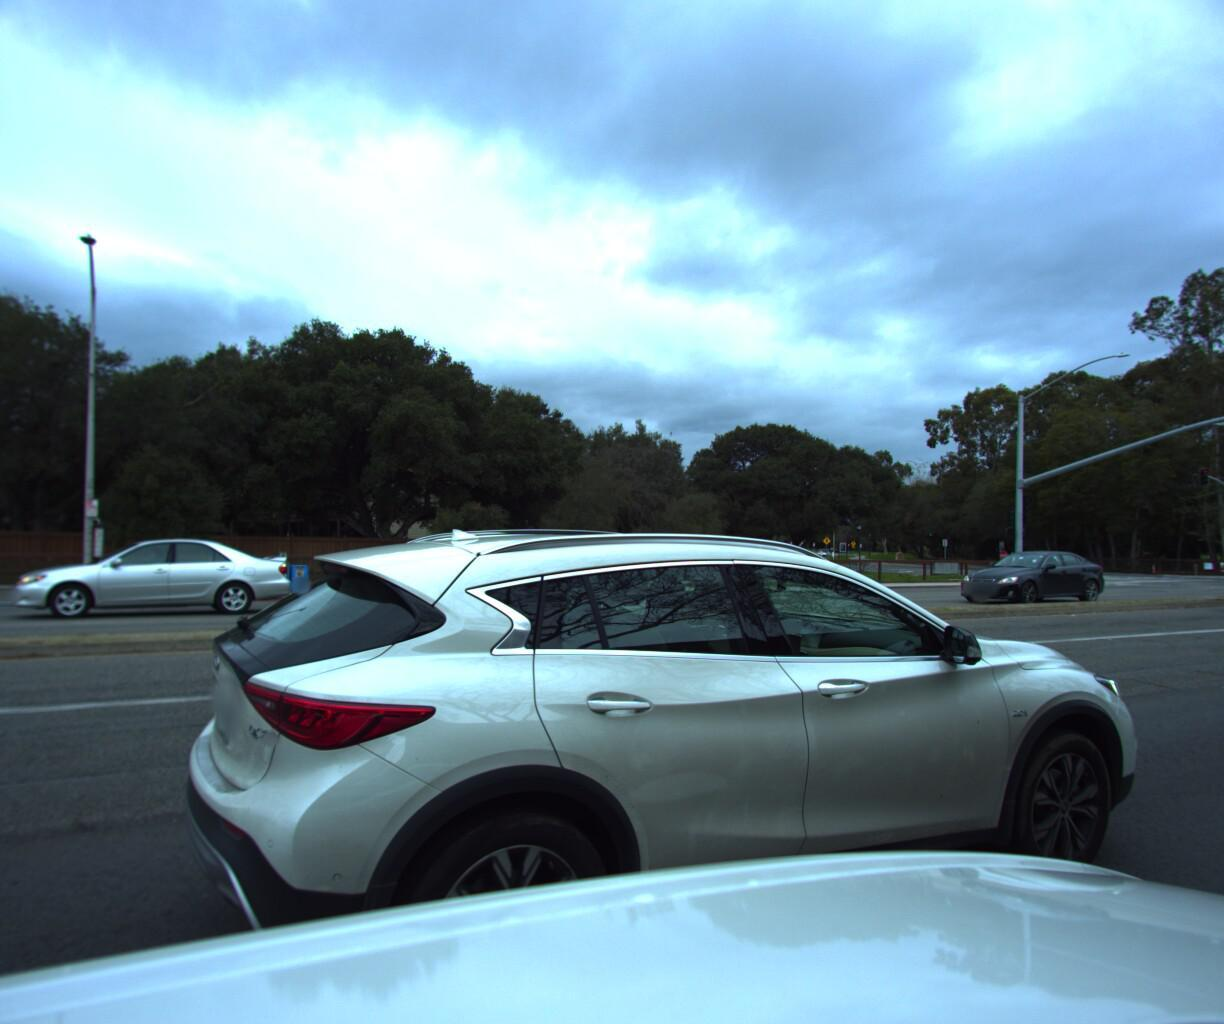car: (174, 510, 1165, 1024), (0, 531, 287, 623), (948, 544, 1118, 607), (1215, 547, 1224, 613)
